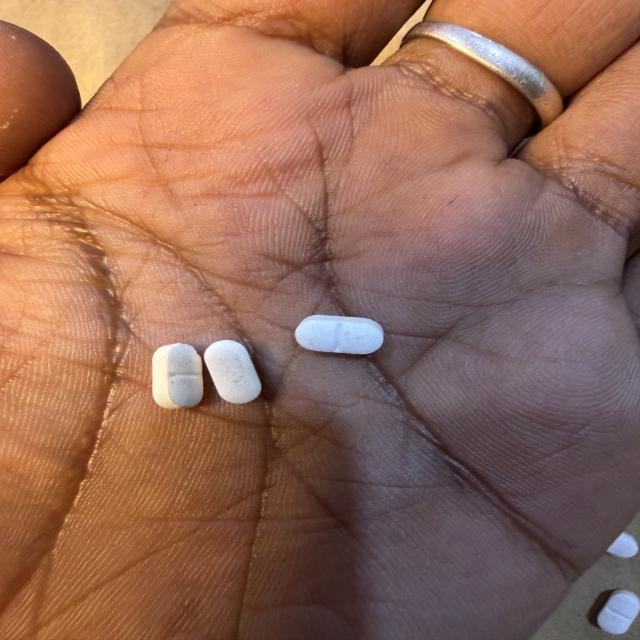pill: (204, 340, 261, 403), (295, 315, 383, 354), (153, 344, 202, 408), (598, 590, 639, 634), (607, 533, 638, 558)
